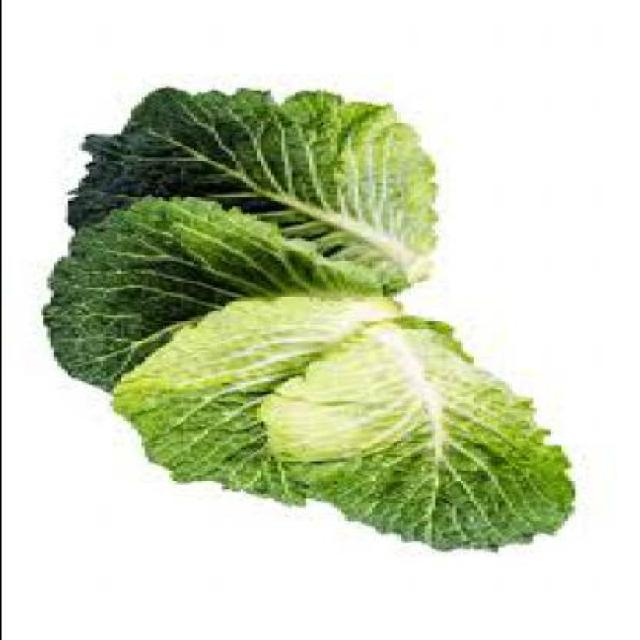BIODEGRADABLE: (252, 316, 570, 550), (64, 86, 430, 283), (39, 192, 398, 390), (108, 294, 406, 503)
